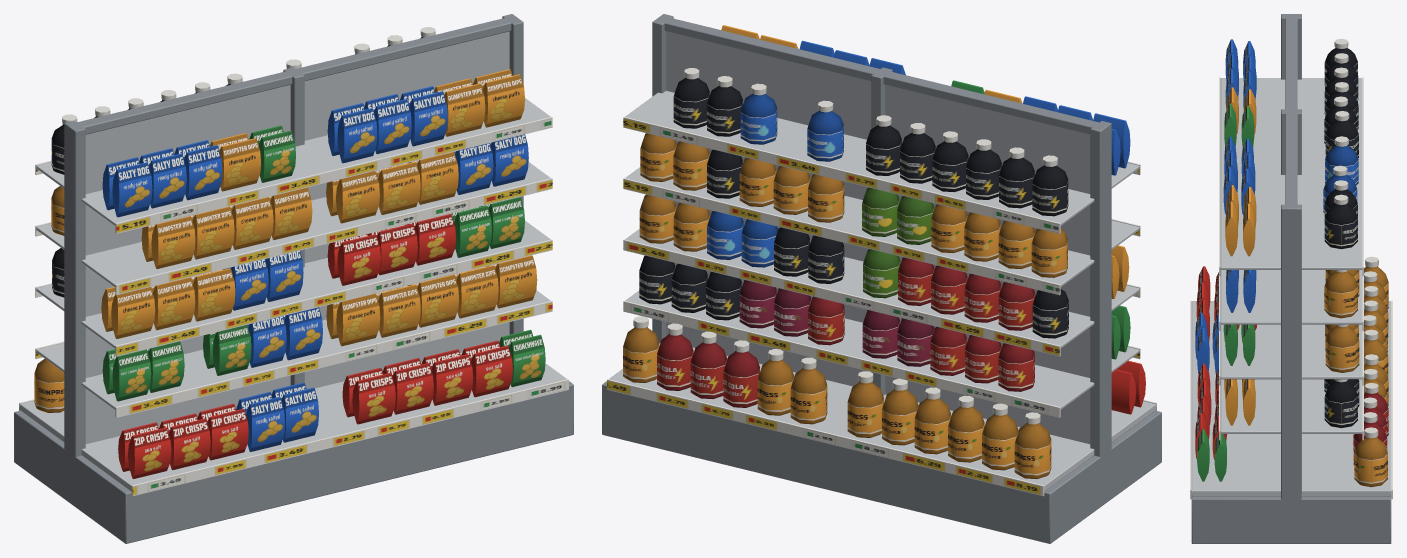
Rendered from gondola_c.glb.
3 renders of one model, left to right at view 1: azimuth 30°, elevation 25°; view 2: azimuth 150°, elevation 25°; view 3: azimuth 270°, elevation 25°, orthographic. The views are drawn at different scales.
Parts seen in each view (by area): view 1: gondola_c; view 2: gondola_c; view 3: gondola_c.
Part boxes in pixels (x1,y1,x2,y2): gondola_c: (14,14,573,543); gondola_c: (602,14,1161,543); gondola_c: (1190,14,1392,543).
Size of the model in its own units: 11.1 by 8.9 by 4.88.
7 materials, 2 textured.
